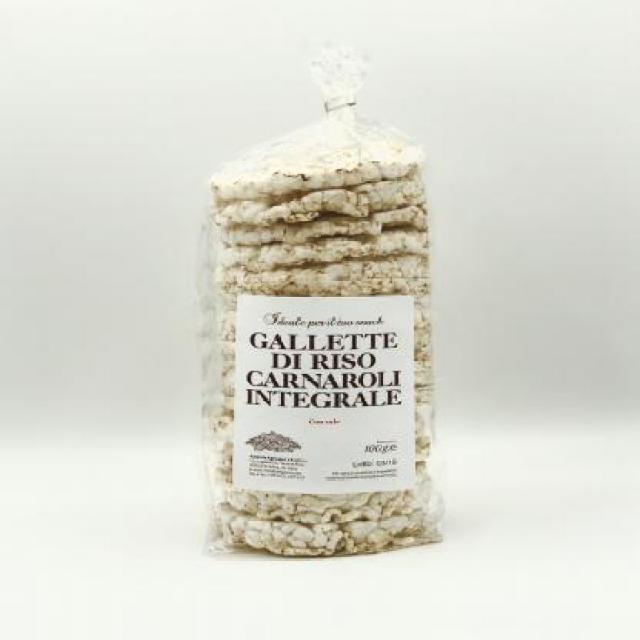Gallette di riso: (182, 42, 456, 562)
